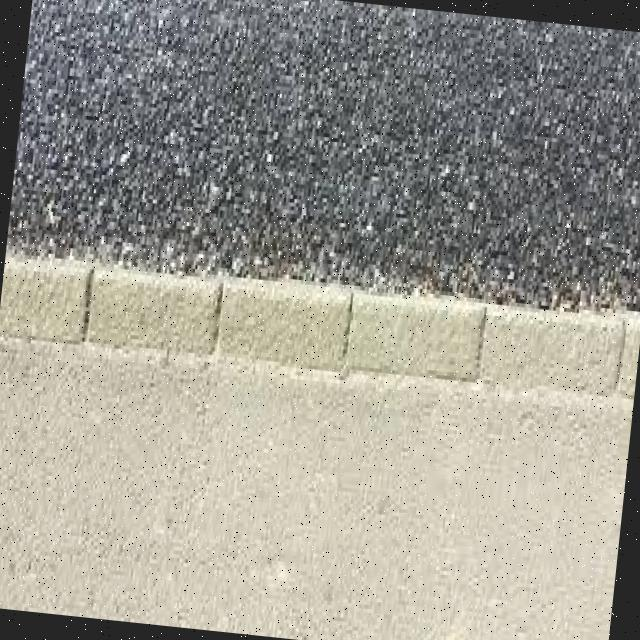curb: (482, 295, 630, 397), (339, 283, 489, 383), (210, 276, 357, 377), (83, 262, 223, 355), (1, 254, 102, 348)
